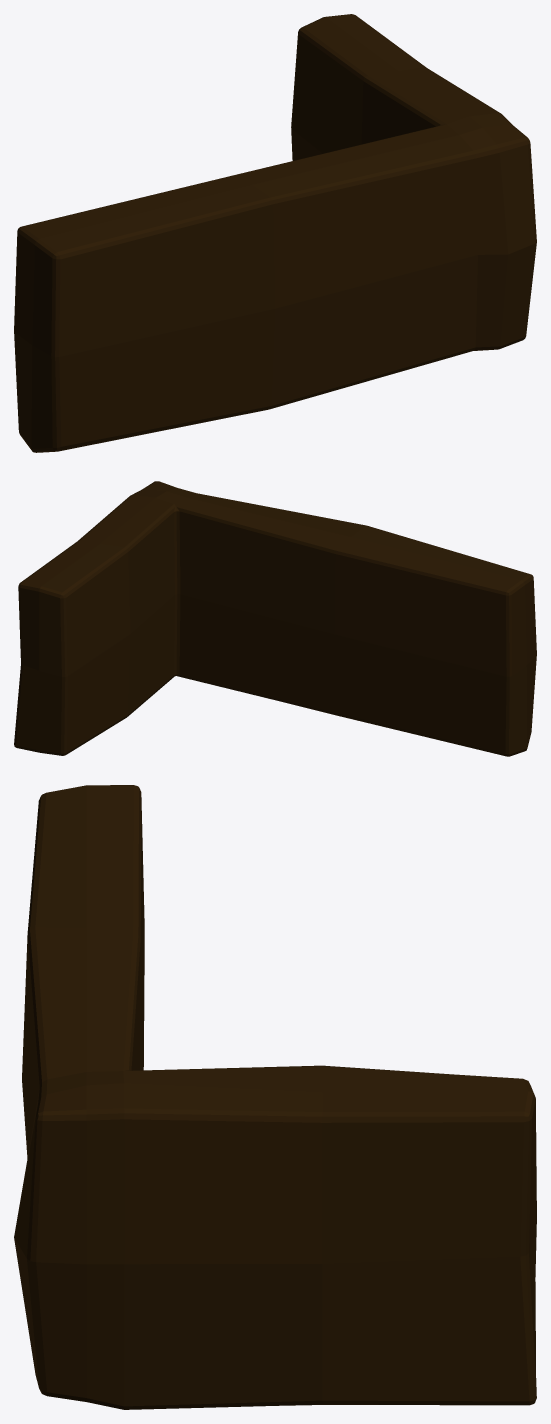
The model's file is Wall piece 9.fbx.
The picture shows the model from 3 angles, top to bottom: view 1: azimuth 30°, elevation 25°; view 2: azimuth 150°, elevation 25°; view 3: azimuth 270°, elevation 25°; orthographic projection. The views are drawn at different scales.
Parts seen in each view (by area): view 1: wall piece 9O; view 2: wall piece 9O; view 3: wall piece 9O.
Part boxes in pixels (x1,y1,x2,y2): wall piece 9O: (14,14,536,452); wall piece 9O: (14,481,536,756); wall piece 9O: (14,785,536,1409).
Size of the model in its own units: 1065 by 699 by 459.
